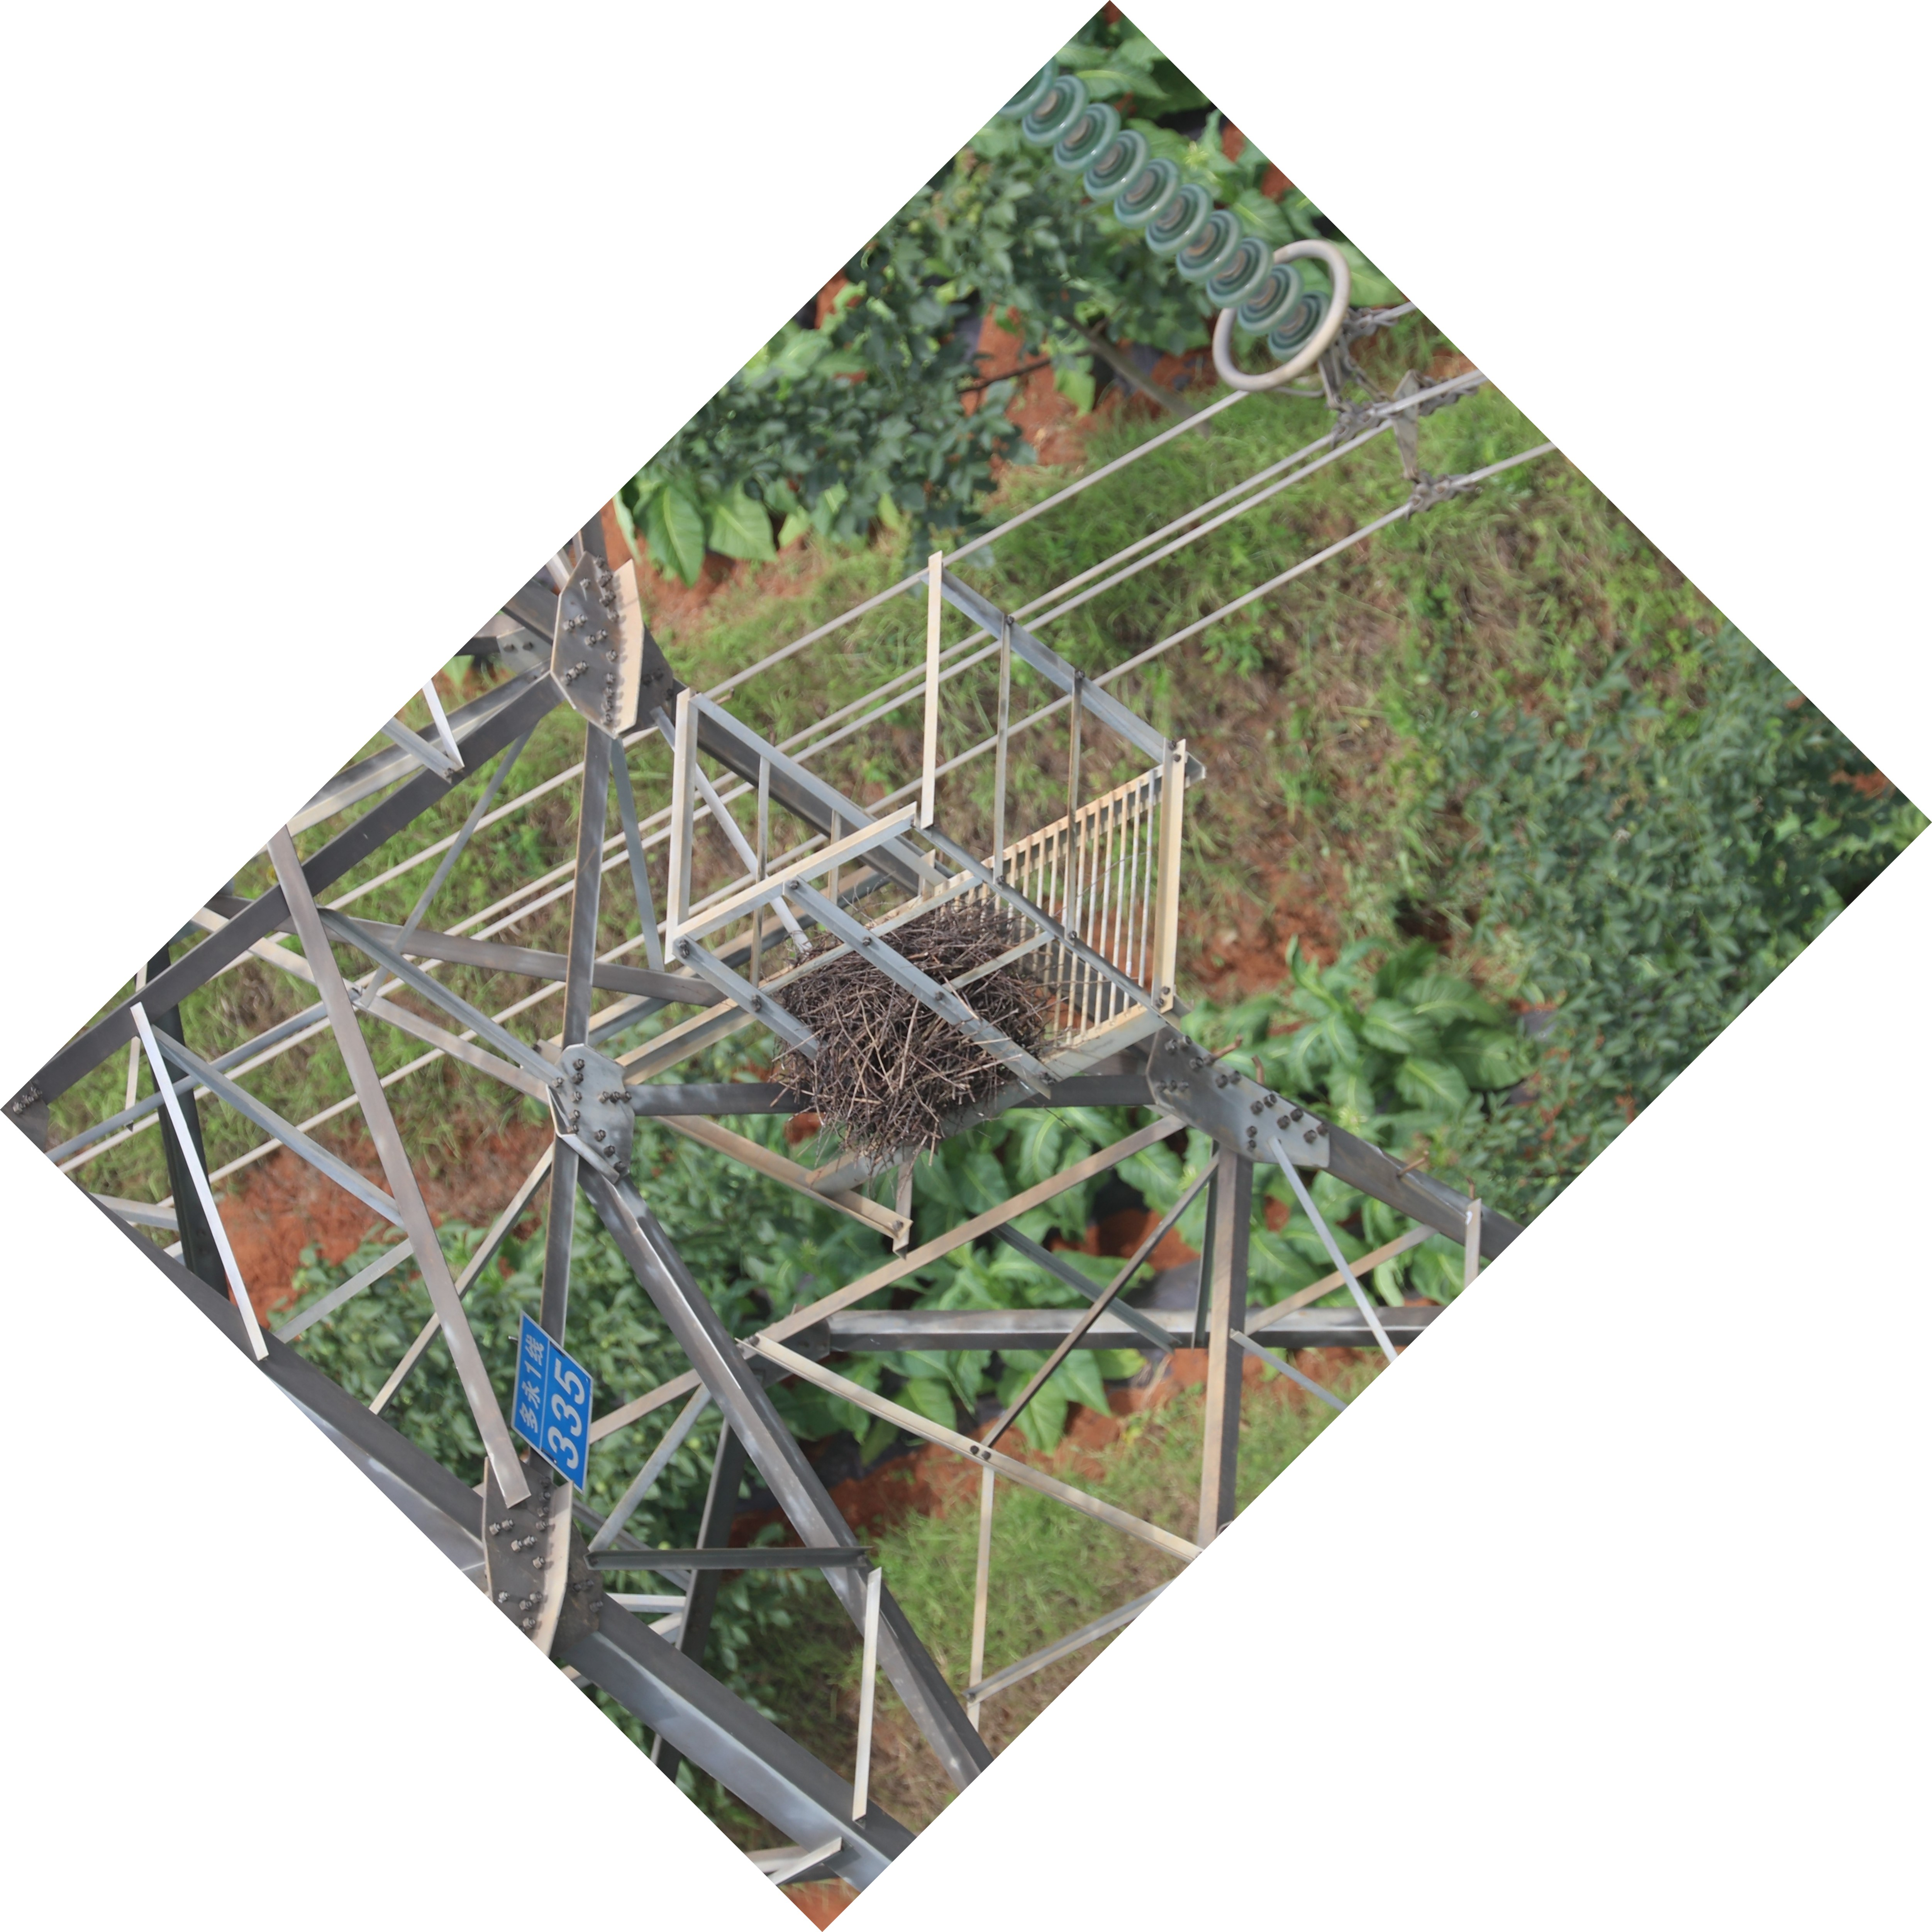niaowo: (768, 893, 1067, 1166)
